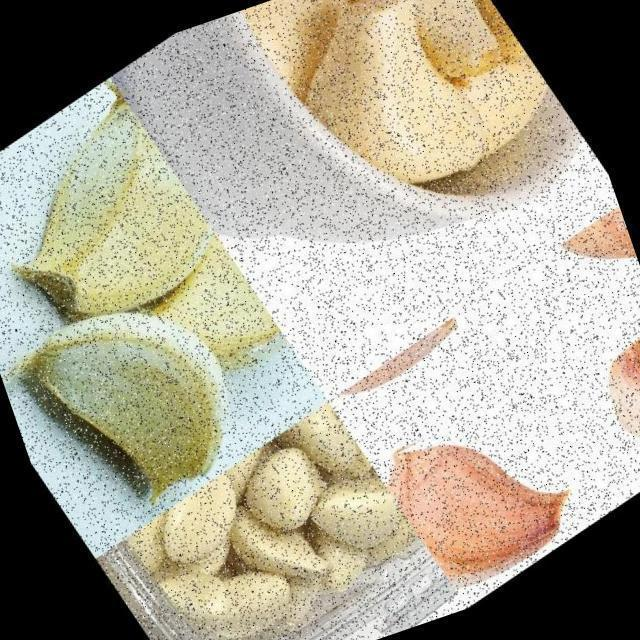garlic: (220, 0, 580, 259), (0, 230, 290, 548), (107, 388, 438, 640), (0, 70, 242, 378), (357, 362, 609, 618), (75, 178, 295, 422), (568, 307, 640, 492)
